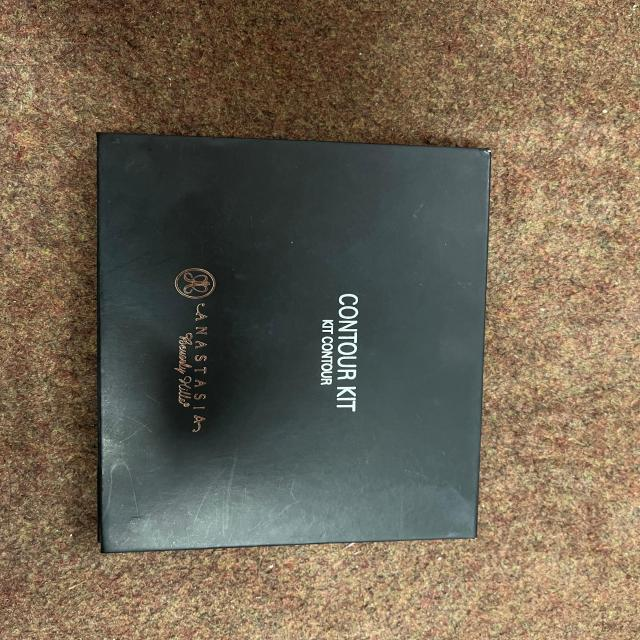concealer: (92, 122, 489, 542)
